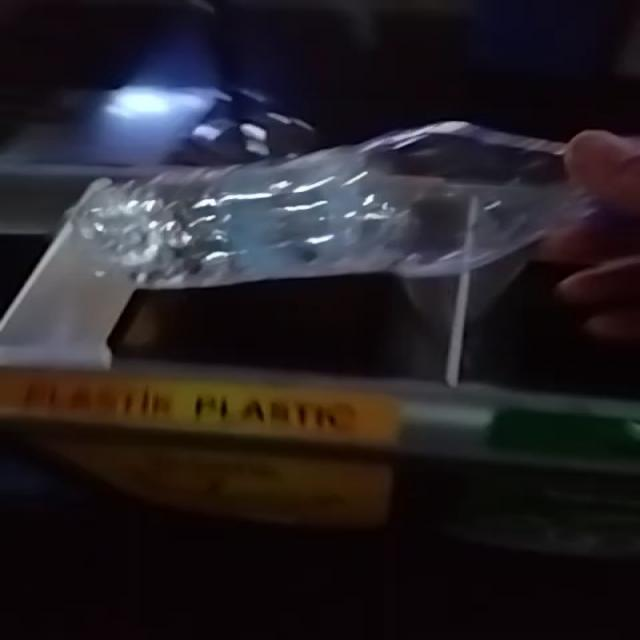plastic: (69, 122, 589, 288)
